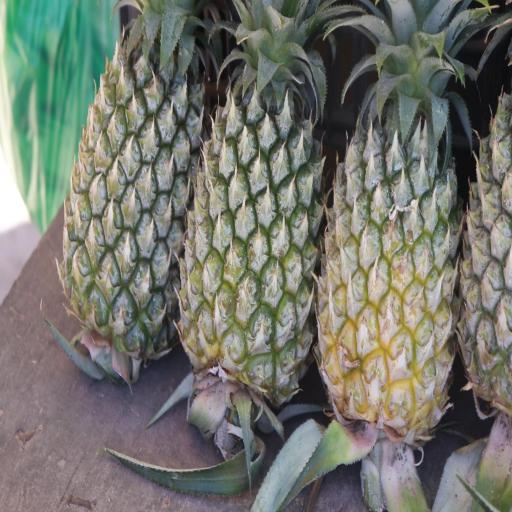------------------------------: (312, 0, 469, 451)
